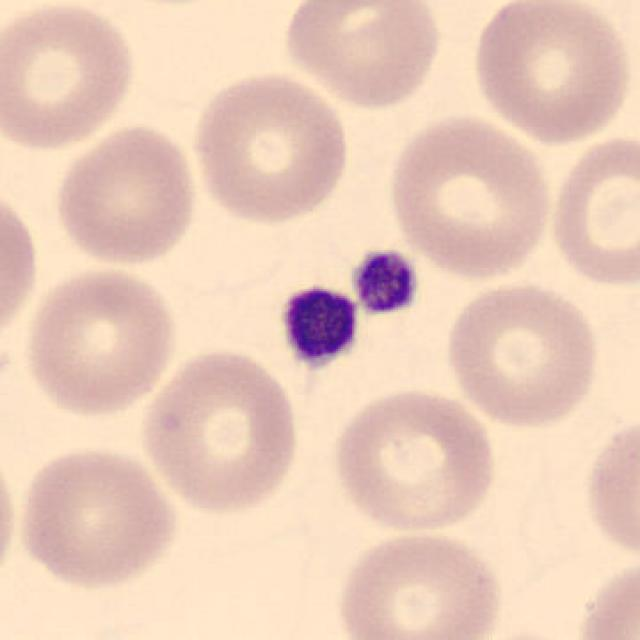Platelets: (276, 280, 362, 374), (347, 245, 423, 319)
RBC: (382, 109, 558, 282), (135, 344, 304, 518), (327, 383, 501, 536), (186, 69, 354, 227), (20, 261, 182, 421), (13, 441, 183, 592), (441, 277, 604, 432), (466, 0, 636, 145), (49, 120, 202, 270), (0, 0, 142, 153), (332, 525, 507, 640), (279, 0, 446, 111), (546, 129, 638, 291), (580, 411, 638, 566), (0, 178, 43, 354), (569, 553, 640, 640), (0, 440, 23, 598)
